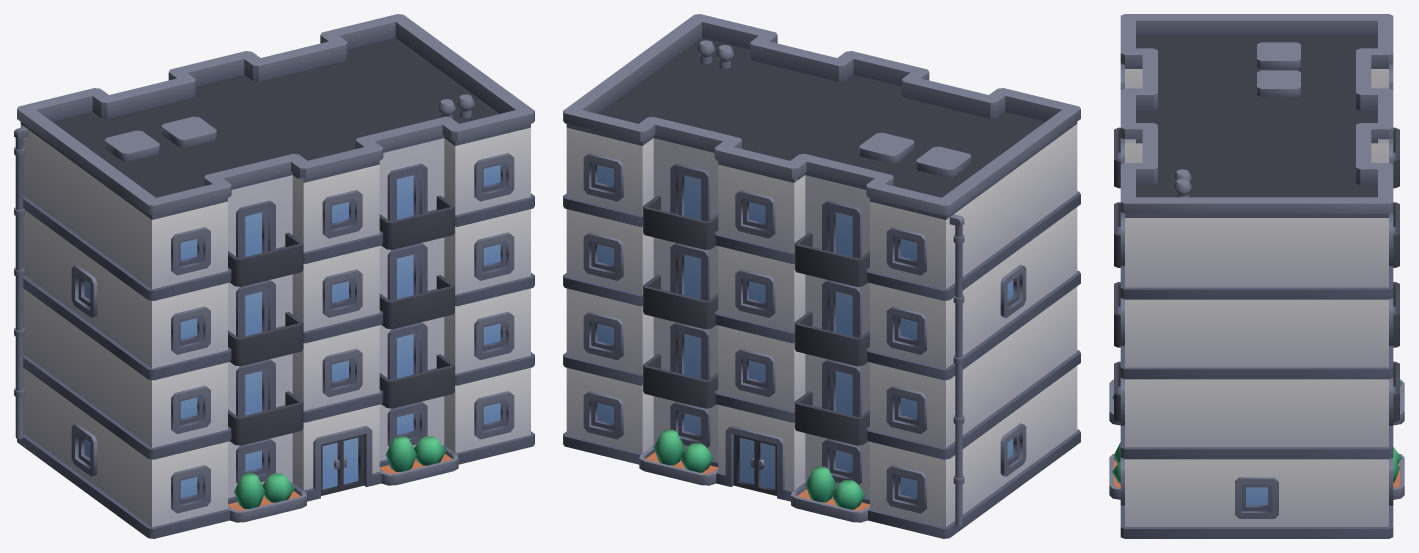
Rendered from city_9.fbx.
3 renders of one model, left to right at view 1: azimuth 30°, elevation 25°; view 2: azimuth 150°, elevation 25°; view 3: azimuth 270°, elevation 25°, orthographic.
Visible parts, largest first — view 1: city_9; view 2: city_9; view 3: city_9.
Part boxes in pixels (bbox=[...]): city_9: bbox=[14, 14, 534, 538]; city_9: bbox=[563, 14, 1080, 538]; city_9: bbox=[1109, 14, 1404, 538].
Size of the model in its own units: 2.08 by 1.69 by 1.34.
1 material, 1 textured.
